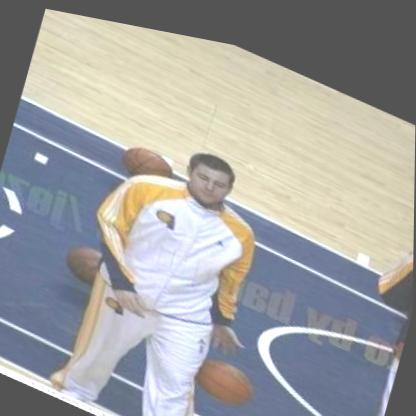basketball: (193, 337, 259, 405), (119, 129, 174, 180), (68, 236, 109, 281)
